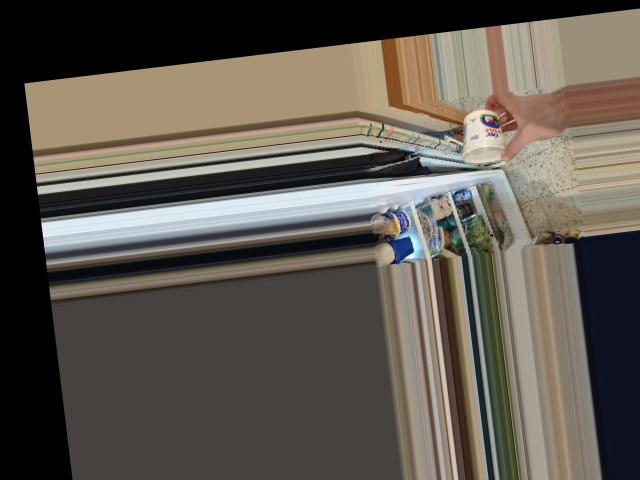cotage: (462, 109, 510, 161)
